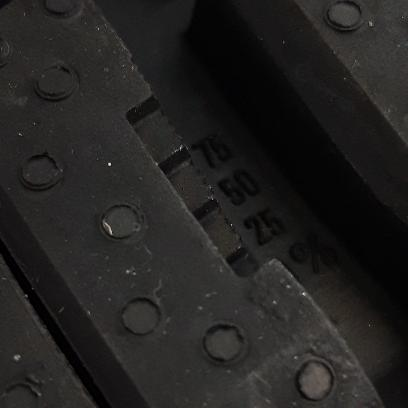temoin:100: (119, 50, 282, 286)
